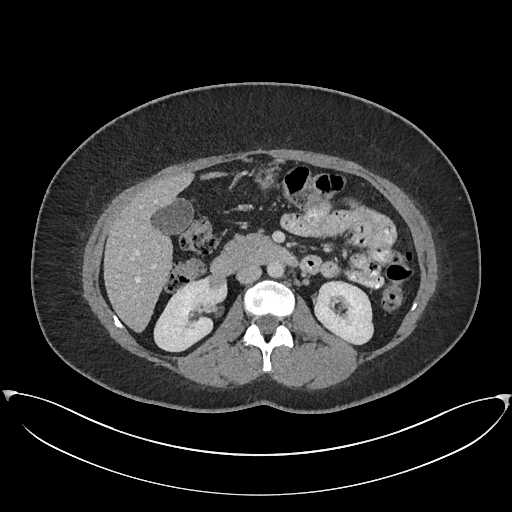Lesion: (205, 273, 229, 295)
